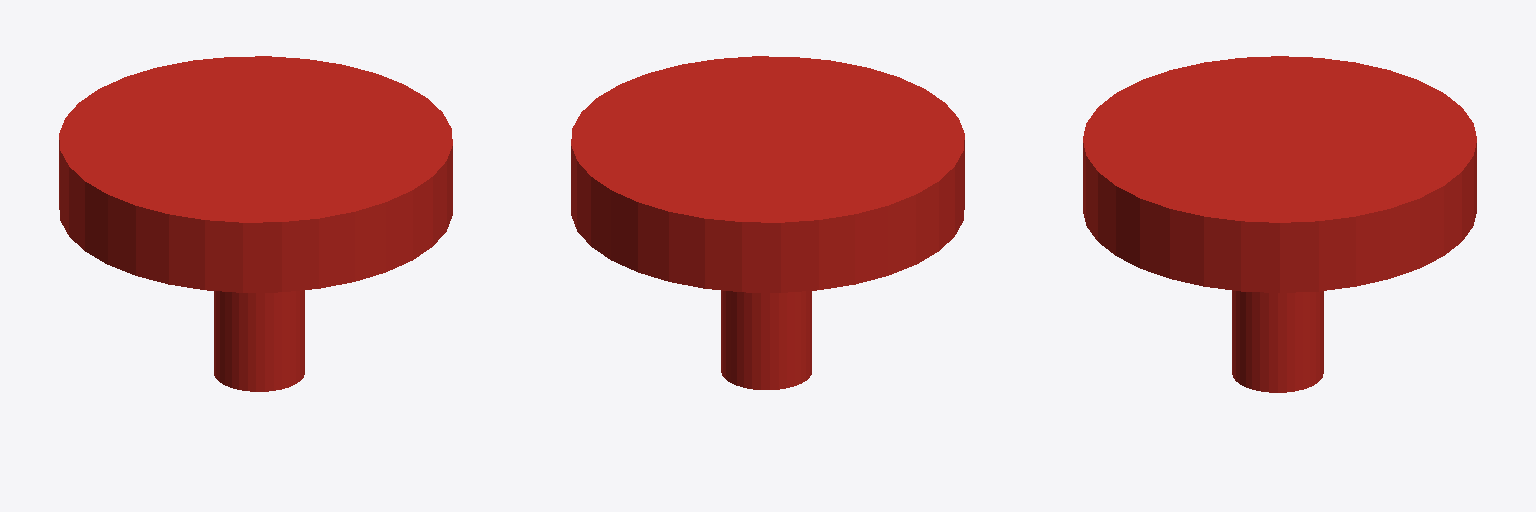
The model's file is ScrewB.obj.
The picture shows the model from 3 angles: view 1: azimuth 30°, elevation 25°; view 2: azimuth 150°, elevation 25°; view 3: azimuth 270°, elevation 25°; orthographic projection.
Parts seen in each view (by area): view 1: Cylinder_Cylinder.001; view 2: Cylinder_Cylinder.001; view 3: Cylinder_Cylinder.001.
Part boxes in pixels (bbox=[...]): Cylinder_Cylinder.001: bbox=[59, 56, 452, 391]; Cylinder_Cylinder.001: bbox=[571, 56, 964, 389]; Cylinder_Cylinder.001: bbox=[1083, 56, 1476, 392].
Size of the model in its own units: 2.33 by 1.52 by 2.33.